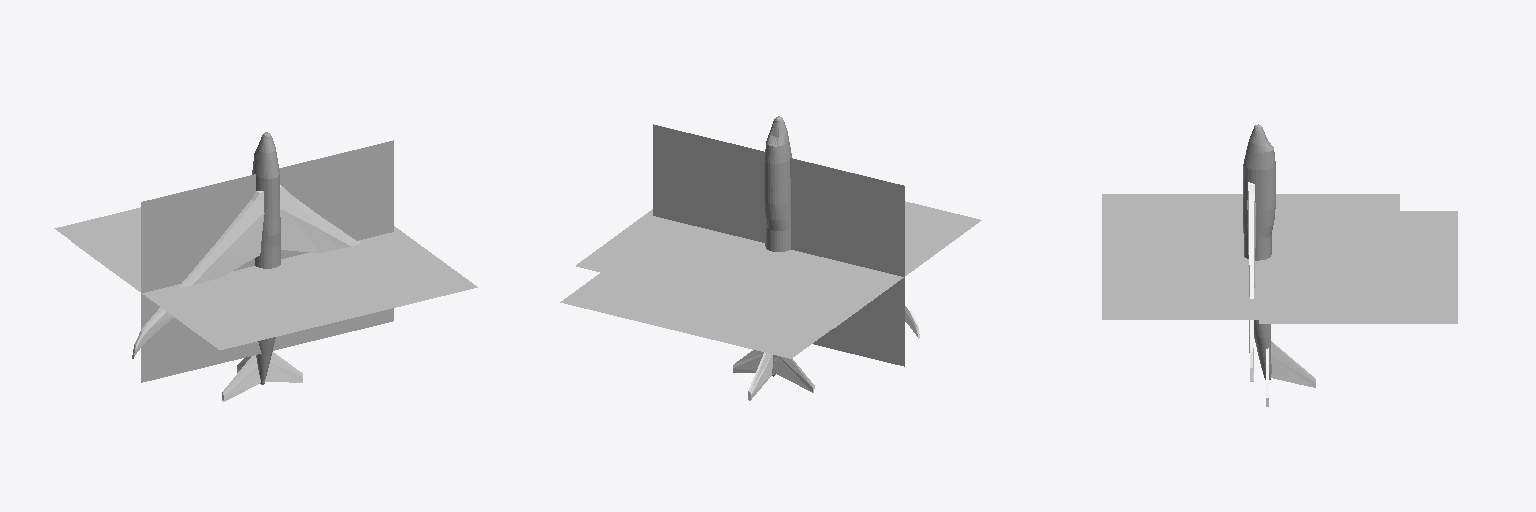
3 renders of one model, left to right at view 1: azimuth 30°, elevation 25°; view 2: azimuth 150°, elevation 25°; view 3: azimuth 270°, elevation 25°, orthographic.
Parts seen in each view (by area): view 1: eBIL0, b747, Cube, Cylinder_Cylinder.001, Cube.001, 747-8-wing-design; view 2: b747, eBIL0, 747-8-wing-design, Cylinder_Cylinder.001, Cube.001, Cube.002; view 3: eBIL0, 747-8-wing-design, Cylinder_Cylinder.001, Cube, Cube.002.
Boxes of the visible parts, x1=… form: eBIL0: x1=71, y1=224, x2=477, y2=349; b747: x1=141, y1=140, x2=393, y2=382; Cube: x1=132, y1=185, x2=360, y2=358; Cylinder_Cylinder.001: x1=252, y1=132, x2=280, y2=384; Cube.001: x1=222, y1=352, x2=302, y2=401; 747-8-wing-design: x1=54, y1=207, x2=140, y2=240; b747: x1=653, y1=124, x2=904, y2=366; eBIL0: x1=576, y1=201, x2=981, y2=328; 747-8-wing-design: x1=560, y1=273, x2=831, y2=358; Cylinder_Cylinder.001: x1=764, y1=116, x2=791, y2=376; Cube.001: x1=733, y1=350, x2=814, y2=392; Cube.002: x1=748, y1=352, x2=772, y2=400; eBIL0: x1=1102, y1=194, x2=1399, y2=319; 747-8-wing-design: x1=1259, y1=211, x2=1457, y2=323; Cylinder_Cylinder.001: x1=1243, y1=124, x2=1275, y2=379; Cube: x1=1247, y1=182, x2=1255, y2=381; Cube.002: x1=1270, y1=340, x2=1315, y2=387.
Bounding box in the file's own units: 1.59 × 1.45 × 1.79.
Materials: 4 (1 with a texture image).